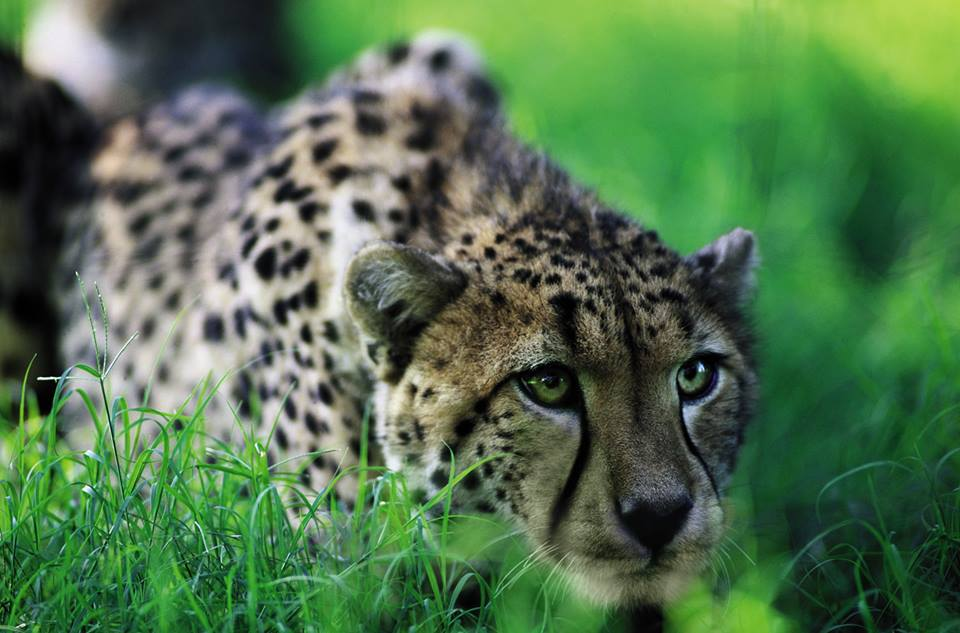cheetah: (330, 198, 798, 618)
